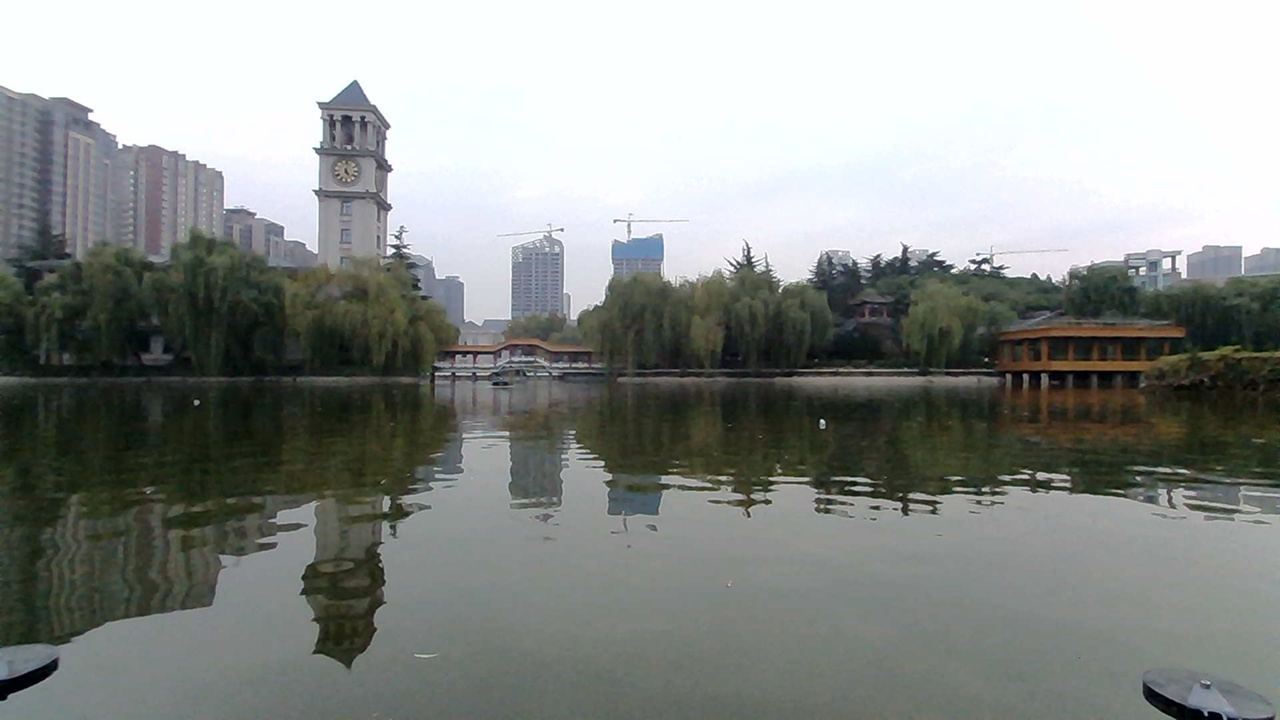bottle: (811, 404, 845, 429)
